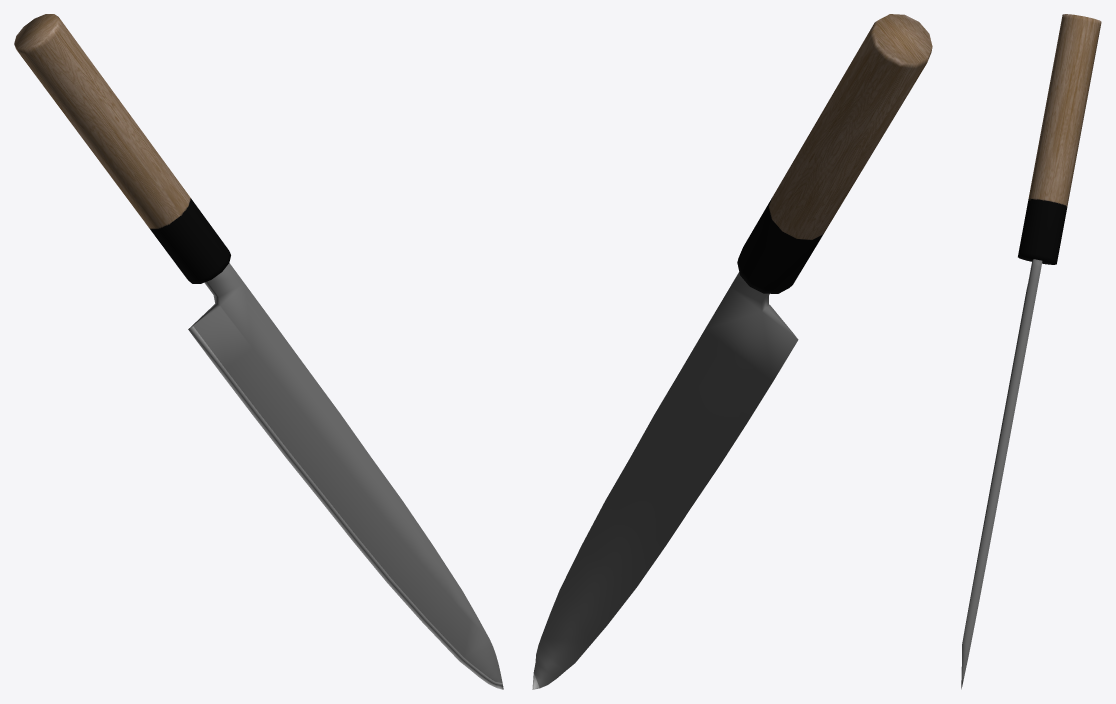
File: w_knife.glb
The picture shows the model from 3 angles, left to right: view 1: azimuth 30°, elevation 25°; view 2: azimuth 150°, elevation 25°; view 3: azimuth 270°, elevation 25°; orthographic projection. The views are drawn at different scales.
Parts seen in each view (by area): view 1: defaultMaterial, defaultMaterial.001; view 2: defaultMaterial, defaultMaterial.001; view 3: defaultMaterial.001, defaultMaterial.
Part boxes in pixels (bbox=[...]): defaultMaterial: bbox=[188, 263, 503, 689]; defaultMaterial.001: bbox=[14, 14, 230, 283]; defaultMaterial: bbox=[532, 272, 798, 689]; defaultMaterial.001: bbox=[737, 14, 932, 293]; defaultMaterial.001: bbox=[1018, 14, 1101, 264]; defaultMaterial: bbox=[961, 259, 1042, 689].
Size of the model in its own units: 326 by 541 by 128.
Materials: 1 (1 with a texture image).
